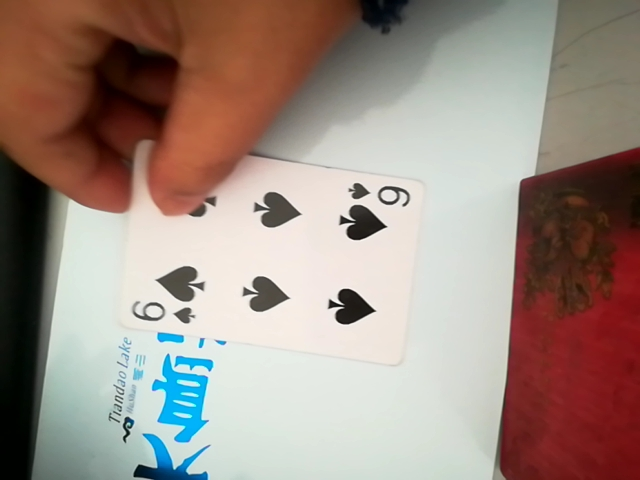ht 6: (110, 154, 423, 358)
